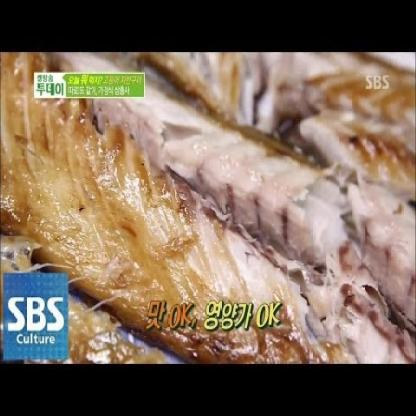Peixe: (0, 46, 416, 370)
